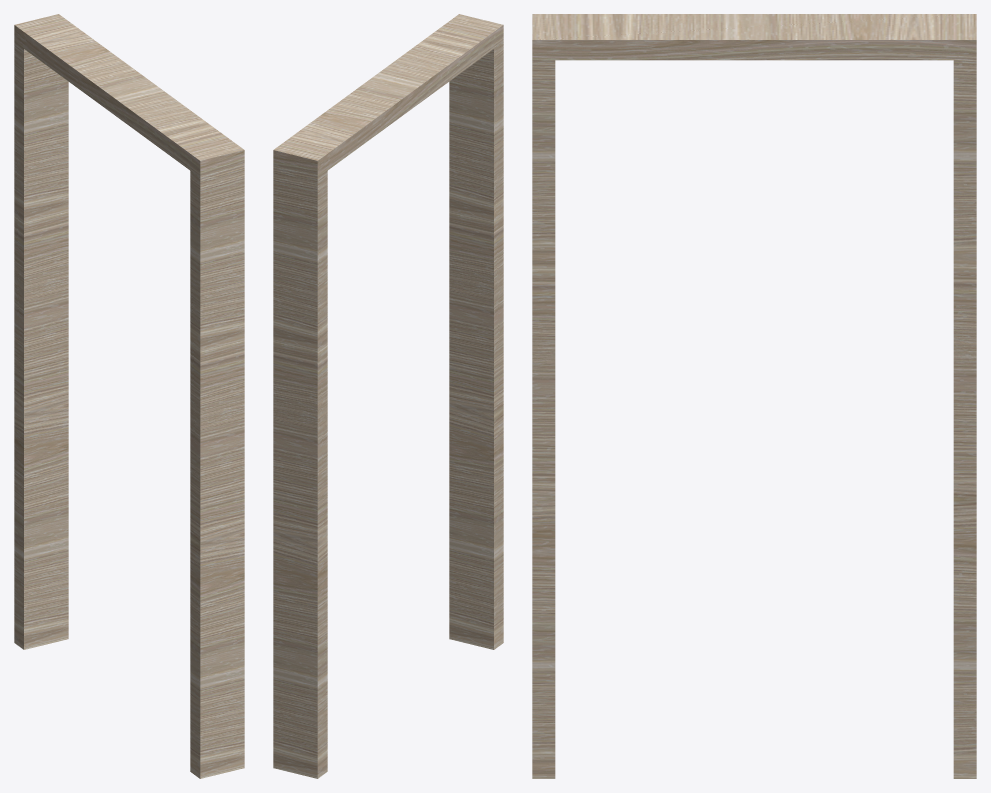
Rendered from FLAT_doorJamb_01.FBX.
The picture shows the model from 3 angles, left to right: view 1: azimuth 30°, elevation 25°; view 2: azimuth 150°, elevation 25°; view 3: azimuth 270°, elevation 25°; orthographic projection. The views are drawn at different scales.
Visible parts, largest first — view 1: FLAT_doorJamb_01; view 2: FLAT_doorJamb_01; view 3: FLAT_doorJamb_01.
Part boxes in pixels (left/top/right/bottom): FLAT_doorJamb_01: left=14, top=14, right=244, bottom=778; FLAT_doorJamb_01: left=273, top=14, right=503, bottom=778; FLAT_doorJamb_01: left=532, top=14, right=976, bottom=778.
Bounding box in the file's own units: 21.87 × 290 × 158.
Materials: 1 (1 with a texture image).
